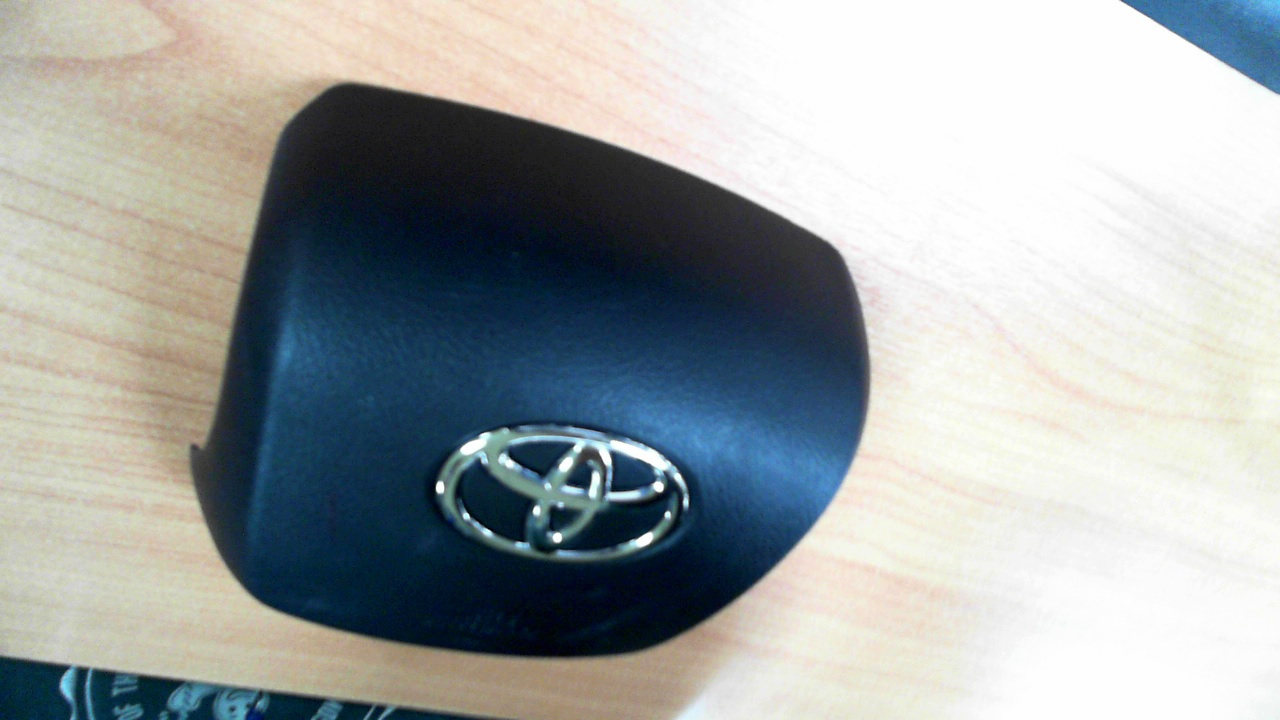Airbag: (189, 82, 871, 659)
Toyota: (435, 424, 690, 561)
